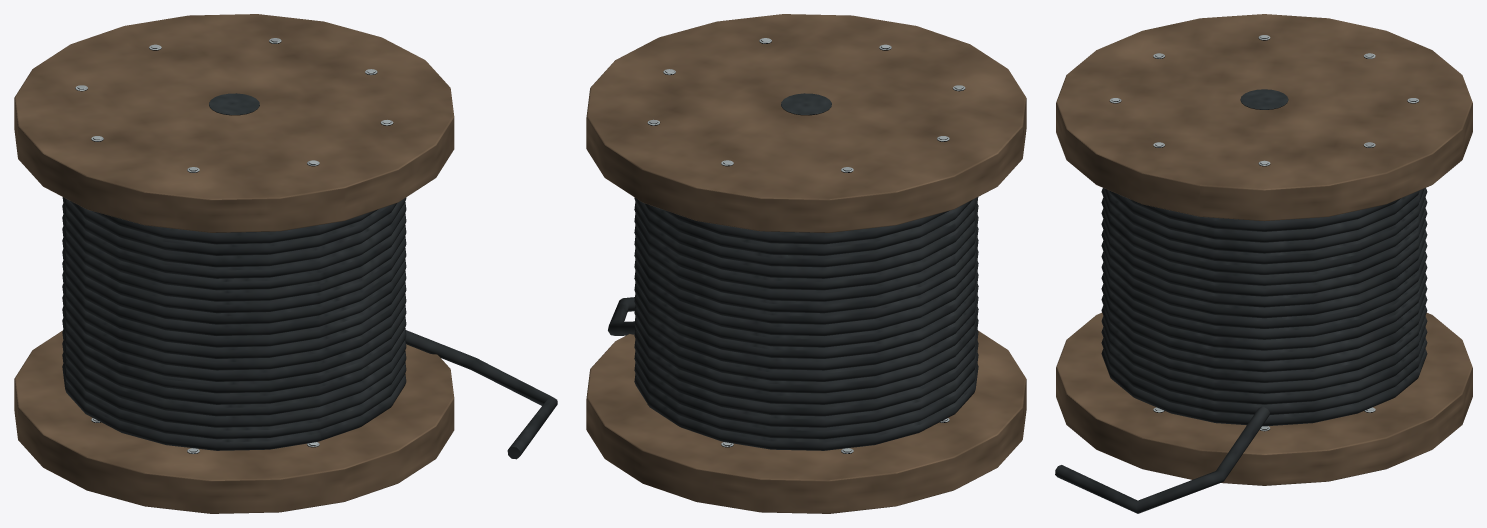
File: GR_CableSpool_01.glb
3 renders of one model, left to right at view 1: azimuth 30°, elevation 25°; view 2: azimuth 150°, elevation 25°; view 3: azimuth 270°, elevation 25°, orthographic. The views are drawn at different scales.
Parts seen in each view (by area): view 1: Static; view 2: Static; view 3: Static.
Boxes of the visible parts, x1=… form: Static: x1=14, y1=14, x2=557, y2=513; Static: x1=586, y1=14, x2=1026, y2=513; Static: x1=1055, y1=14, x2=1472, y2=513.
Bounding box in the file's own units: 1.31 × 0.8865 × 1.12.
Materials: 1 (1 with a texture image).
